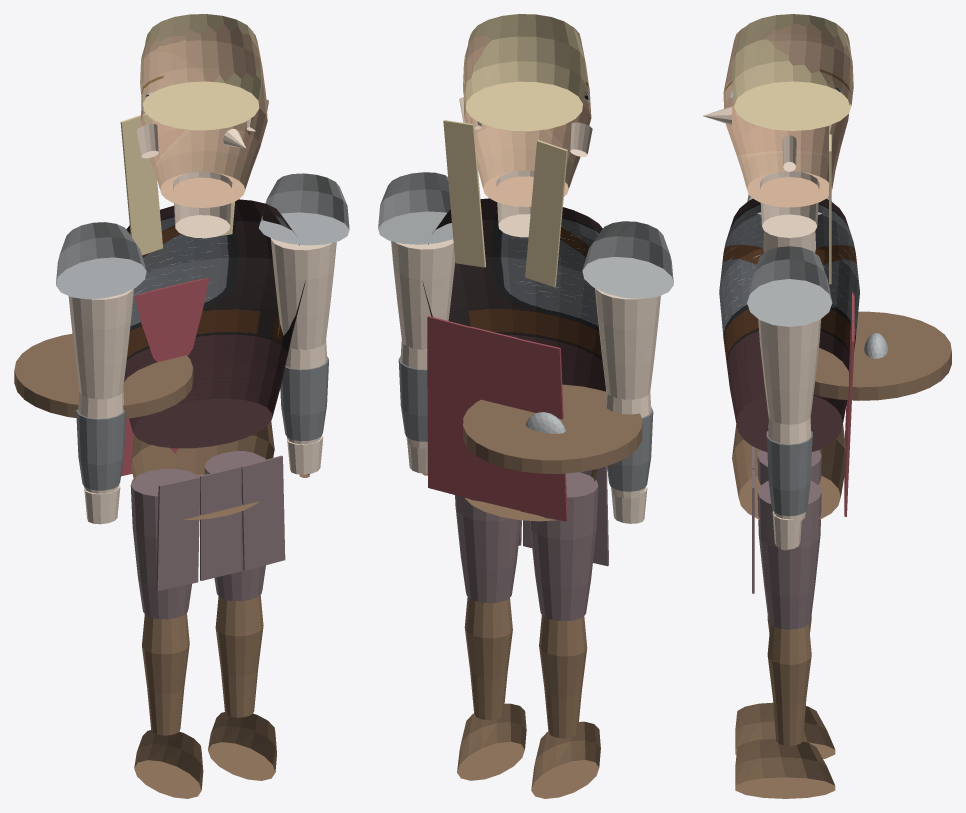
The model's file is Midgard_Hero_Valkyrie_Skin_V4_Human_YUP.glb.
The picture shows the model from 3 angles, left to right: view 1: azimuth 30°, elevation 25°; view 2: azimuth 150°, elevation 25°; view 3: azimuth 270°, elevation 25°; orthographic projection.
Parts seen in each view (by area): view 1: Torso, Head, Shield, HairCap, ShoulderArmor_L, UpperArm_R, UpperArm_L, ShoulderArmor_R, Thigh_L, Shin_L, Shin_R, TunicPanel_0 (+17 smaller); view 2: Torso, HairCap, Shield, CapePanel_2, Thigh_L, Head, ShoulderArmor_L, UpperArm_L, CapePanel_0, UpperArm_R, Thigh_R, CapePanel_1 (+17 smaller); view 3: Torso, Head, HairCap, Shield, Thigh_R, ShoulderArmor_R, UpperArm_R, Boot_R, Shin_R, Pelvis, Vambrace_R, Boot_L (+9 smaller).
Boxes of the visible parts, x1=… form: Torso: x1=124, y1=199, x2=305, y2=448; Head: x1=141, y1=24, x2=267, y2=207; Shield: x1=14, y1=333, x2=193, y2=418; HairCap: x1=140, y1=14, x2=262, y2=130; ShoulderArmor_L: x1=56, y1=222, x2=146, y2=299; UpperArm_R: x1=270, y1=238, x2=336, y2=349; UpperArm_L: x1=68, y1=289, x2=133, y2=399; ShoulderArmor_R: x1=259, y1=173, x2=349, y2=245; Thigh_L: x1=130, y1=469, x2=198, y2=619; Shin_L: x1=142, y1=613, x2=189, y2=735; Shin_R: x1=215, y1=595, x2=263, y2=717; TunicPanel_0: x1=156, y1=477, x2=200, y2=591; Torso: x1=422, y1=198, x2=605, y2=391; HairCap: x1=463, y1=14, x2=585, y2=131; Shield: x1=463, y1=384, x2=642, y2=473; CapePanel_2: x1=427, y1=315, x2=474, y2=499; Thigh_L: x1=529, y1=472, x2=598, y2=620; Head: x1=463, y1=26, x2=591, y2=206; ShoulderArmor_L: x1=582, y1=221, x2=673, y2=298; UpperArm_L: x1=595, y1=288, x2=660, y2=399; CapePanel_0: x1=513, y1=338, x2=567, y2=521; UpperArm_R: x1=391, y1=239, x2=454, y2=349; Thigh_R: x1=455, y1=495, x2=521, y2=602; CapePanel_1: x1=470, y1=326, x2=520, y2=510; Torso: x1=719, y1=198, x2=859, y2=451; Head: x1=723, y1=22, x2=852, y2=207; HairCap: x1=732, y1=14, x2=853, y2=130; Shield: x1=813, y1=311, x2=951, y2=400; Thigh_R: x1=757, y1=480, x2=821, y2=629; ShoulderArmor_R: x1=747, y1=246, x2=832, y2=326; UpperArm_R: x1=758, y1=319, x2=820, y2=424; Boot_R: x1=735, y1=738, x2=835, y2=798; Shin_R: x1=767, y1=624, x2=811, y2=745; Pelvis: x1=732, y1=424, x2=845, y2=519; Vambrace_R: x1=766, y1=431, x2=812, y2=516; Boot_L: x1=735, y1=702, x2=835, y2=758.
Bounding box in the file's own units: 1.54 × 3.79 × 1.17.
10 materials, 2 textured.
